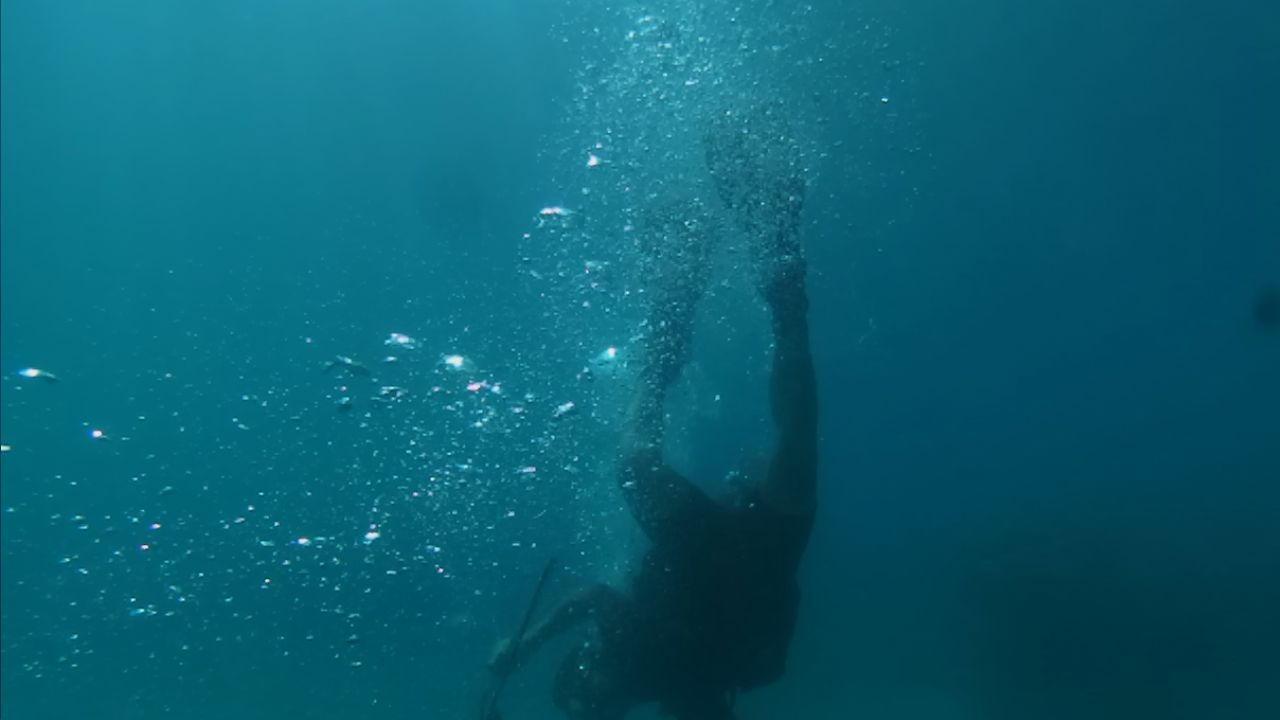Hand: (472, 626, 560, 690)
